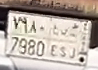0: (36, 23, 47, 58)
7: (9, 14, 20, 54)
8: (28, 19, 37, 56)
9: (19, 15, 28, 57)
E: (49, 23, 61, 60)
J: (67, 26, 78, 61)
S: (59, 26, 70, 59)
